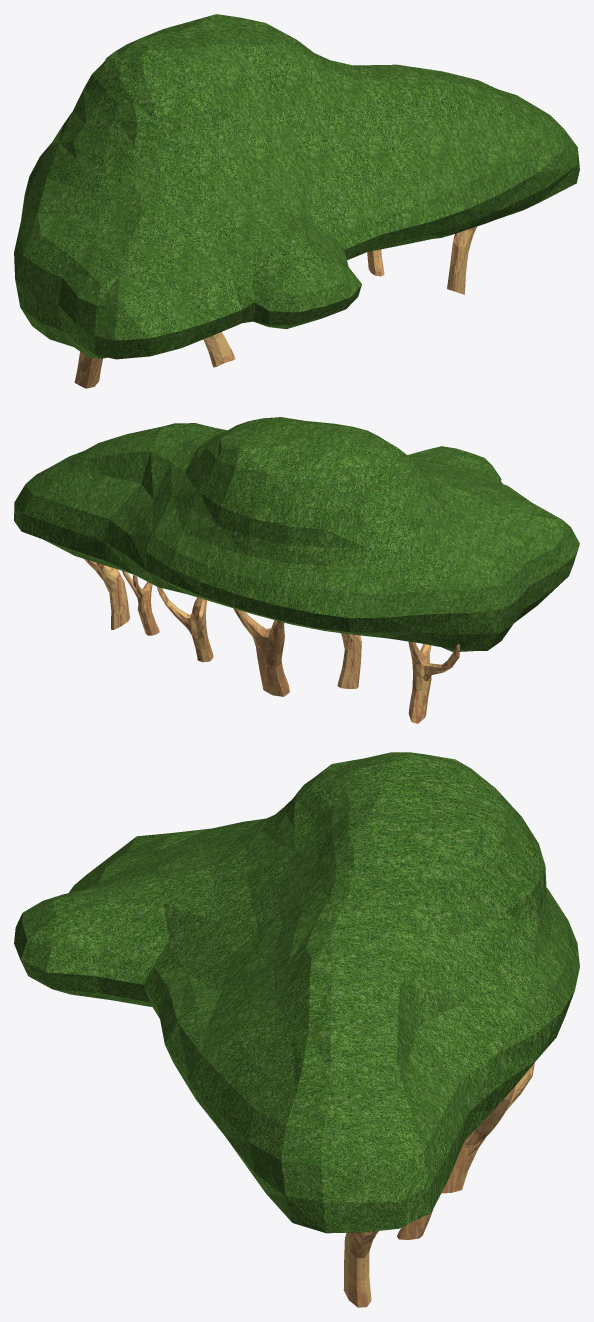
File: ForestHomePartsTree_bake.dae
3 renders of one model, top to bottom at view 1: azimuth 30°, elevation 25°; view 2: azimuth 150°, elevation 25°; view 3: azimuth 270°, elevation 25°, orthographic. The views are drawn at different scales.
Visible parts, largest first — view 1: m0, m1; view 2: m0, m1; view 3: m0, m1.
Boxes of the visible parts, x1=… form: m0: x1=14, y1=14, x2=579, y2=359; m1: x1=74, y1=226, x2=476, y2=388; m0: x1=14, y1=417, x2=579, y2=651; m1: x1=84, y1=559, x2=459, y2=723; m0: x1=14, y1=752, x2=579, y2=1233; m1: x1=343, y1=1063, x2=534, y2=1307.
Bounding box in the file's own units: 8320 × 4454 × 5874.
3 materials, 3 textured.
